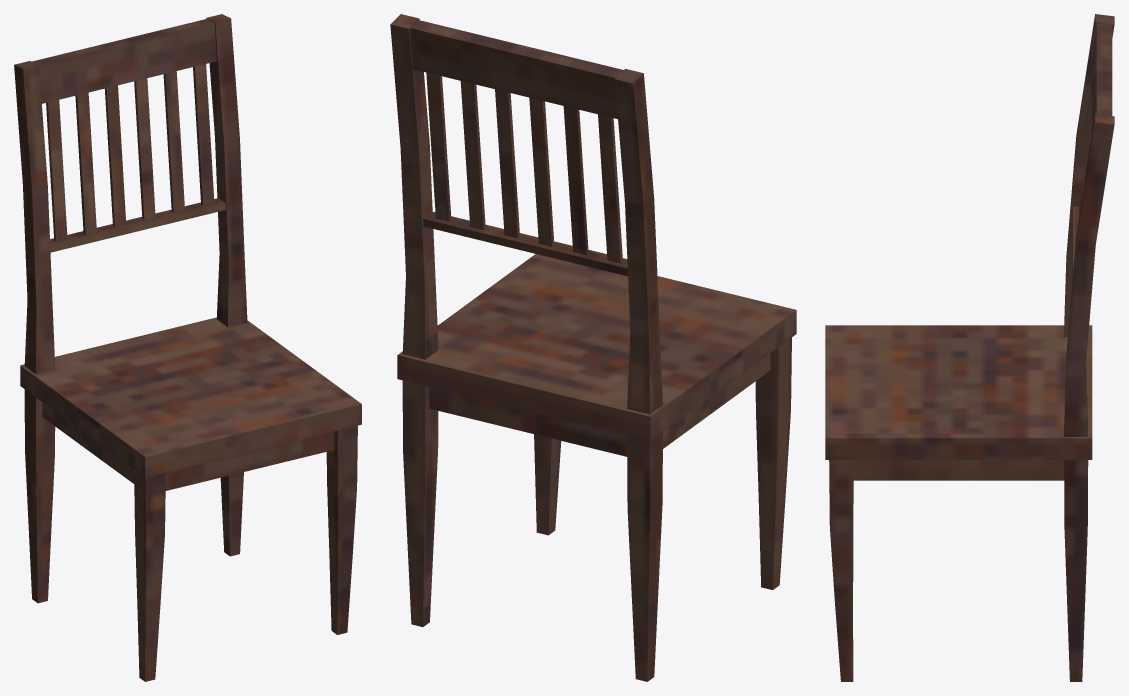
File: chair.fbx
The picture shows the model from 3 angles, left to right: view 1: azimuth 30°, elevation 25°; view 2: azimuth 150°, elevation 25°; view 3: azimuth 270°, elevation 25°; orthographic projection. The views are drawn at different scales.
Visible parts, largest first — view 1: Chair_4; view 2: Chair_4; view 3: Chair_4.
Part boxes in pixels (x1,y1,x2,y2): Chair_4: (14,14,361,681); Chair_4: (390,14,796,681); Chair_4: (825,14,1114,681).
Size of the model in its own units: 48.62 by 113 by 52.68.
